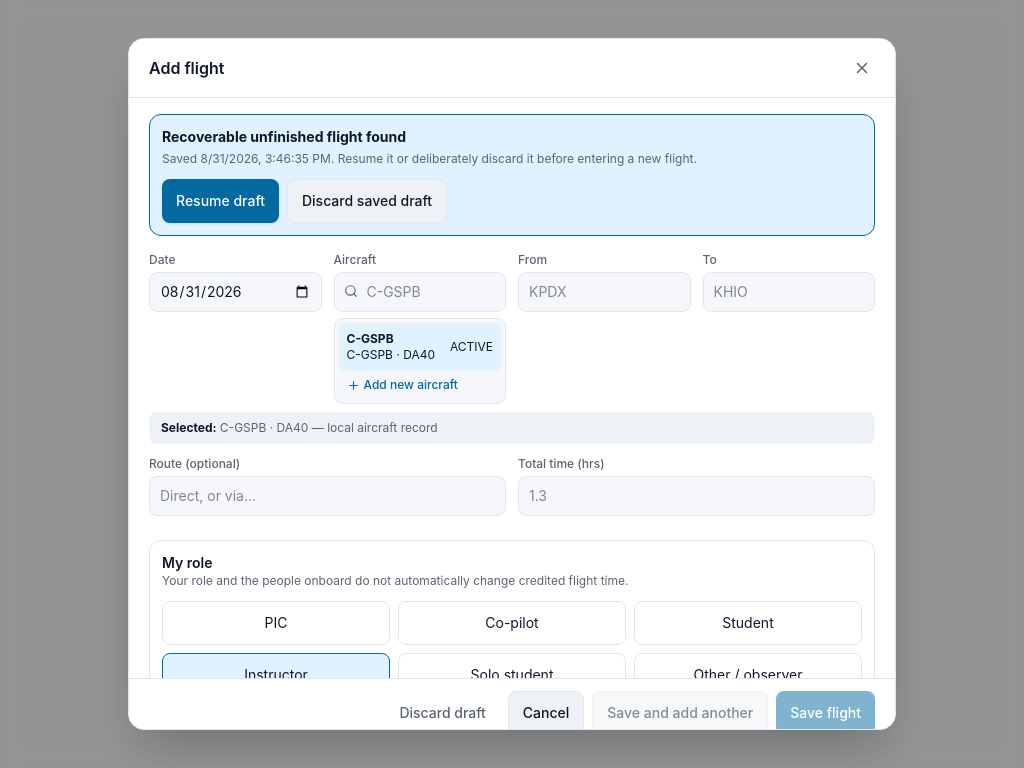
Scenario: FlightFormModal automatic and manual times › deliberately discards a recoverable draft
Click the button "Discard saved draft": (367, 201) [287,179,447,223]
(page scrolled)
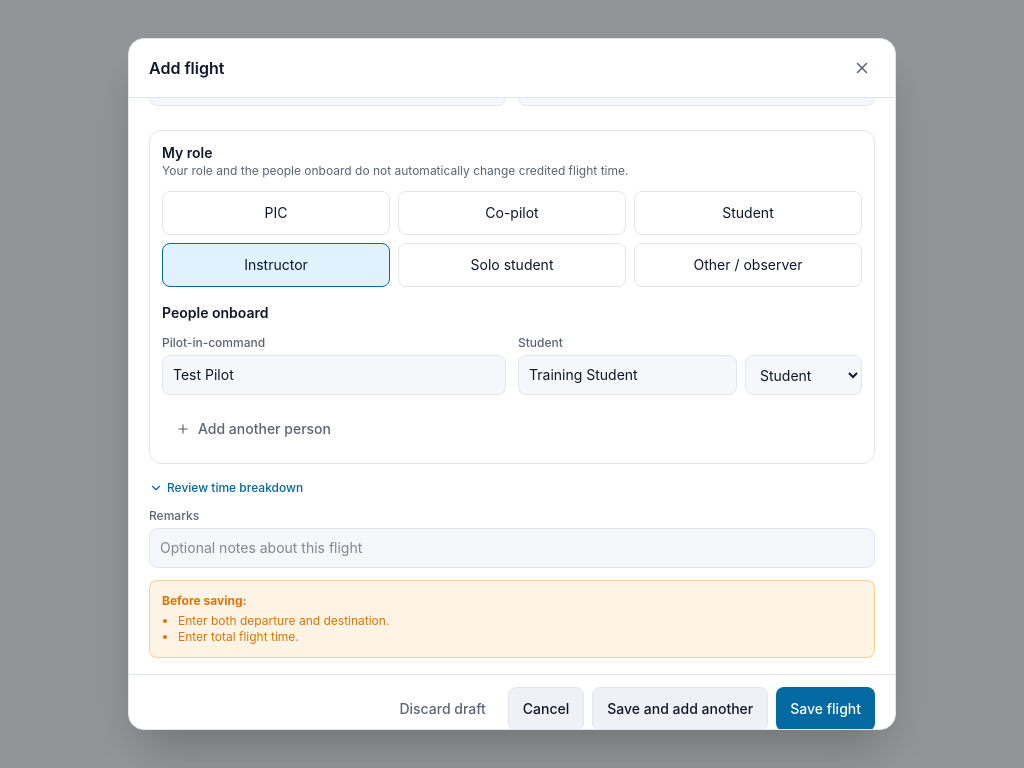
expect the text "Recoverable unfinished flight found" is gone: met
expect the field labelled "Remarks" is empty: met, box [149,528,875,568]
